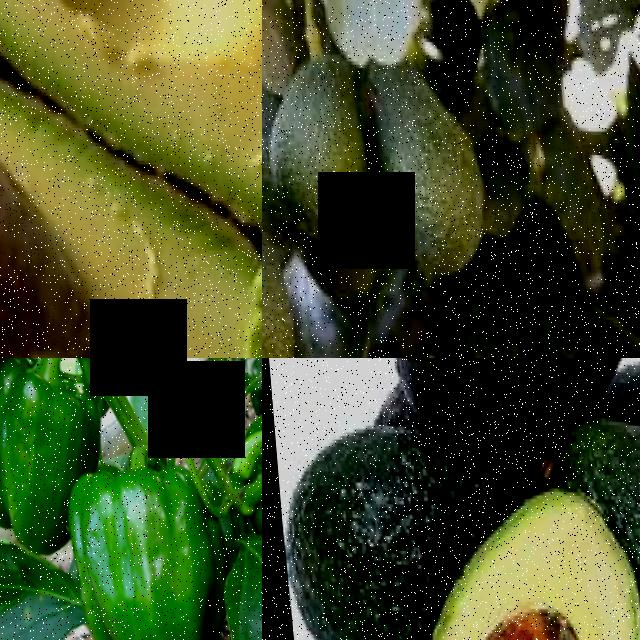avocado: (0, 2, 262, 358), (0, 0, 262, 270), (384, 471, 640, 640), (356, 28, 493, 288), (269, 410, 414, 640), (262, 32, 376, 252), (370, 358, 640, 442)
bell pepper: (66, 461, 210, 640), (0, 371, 68, 539)
